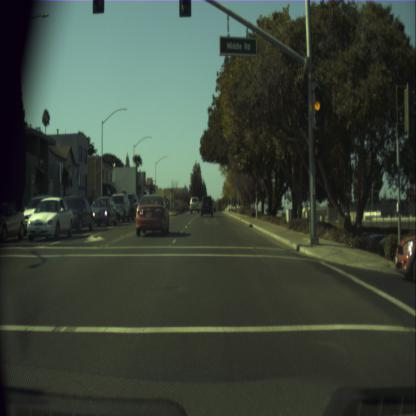Yellow: (312, 87, 322, 125)
off: (180, 0, 190, 16), (92, 0, 104, 12)
